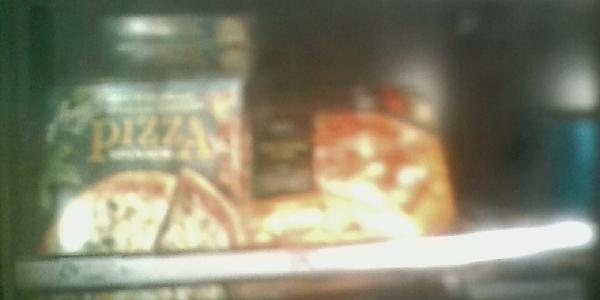pizza1: (36, 72, 248, 250), (249, 85, 455, 236), (50, 8, 249, 48), (47, 48, 252, 75)
